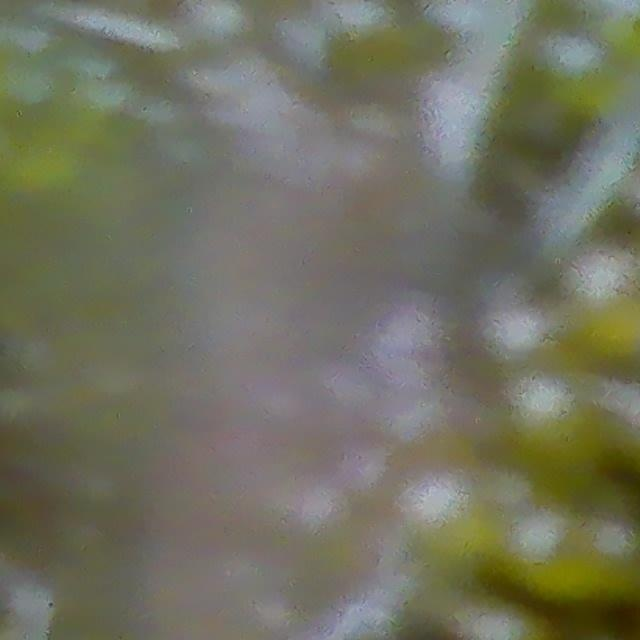SeaGrape: (539, 29, 604, 86), (187, 0, 251, 49)
